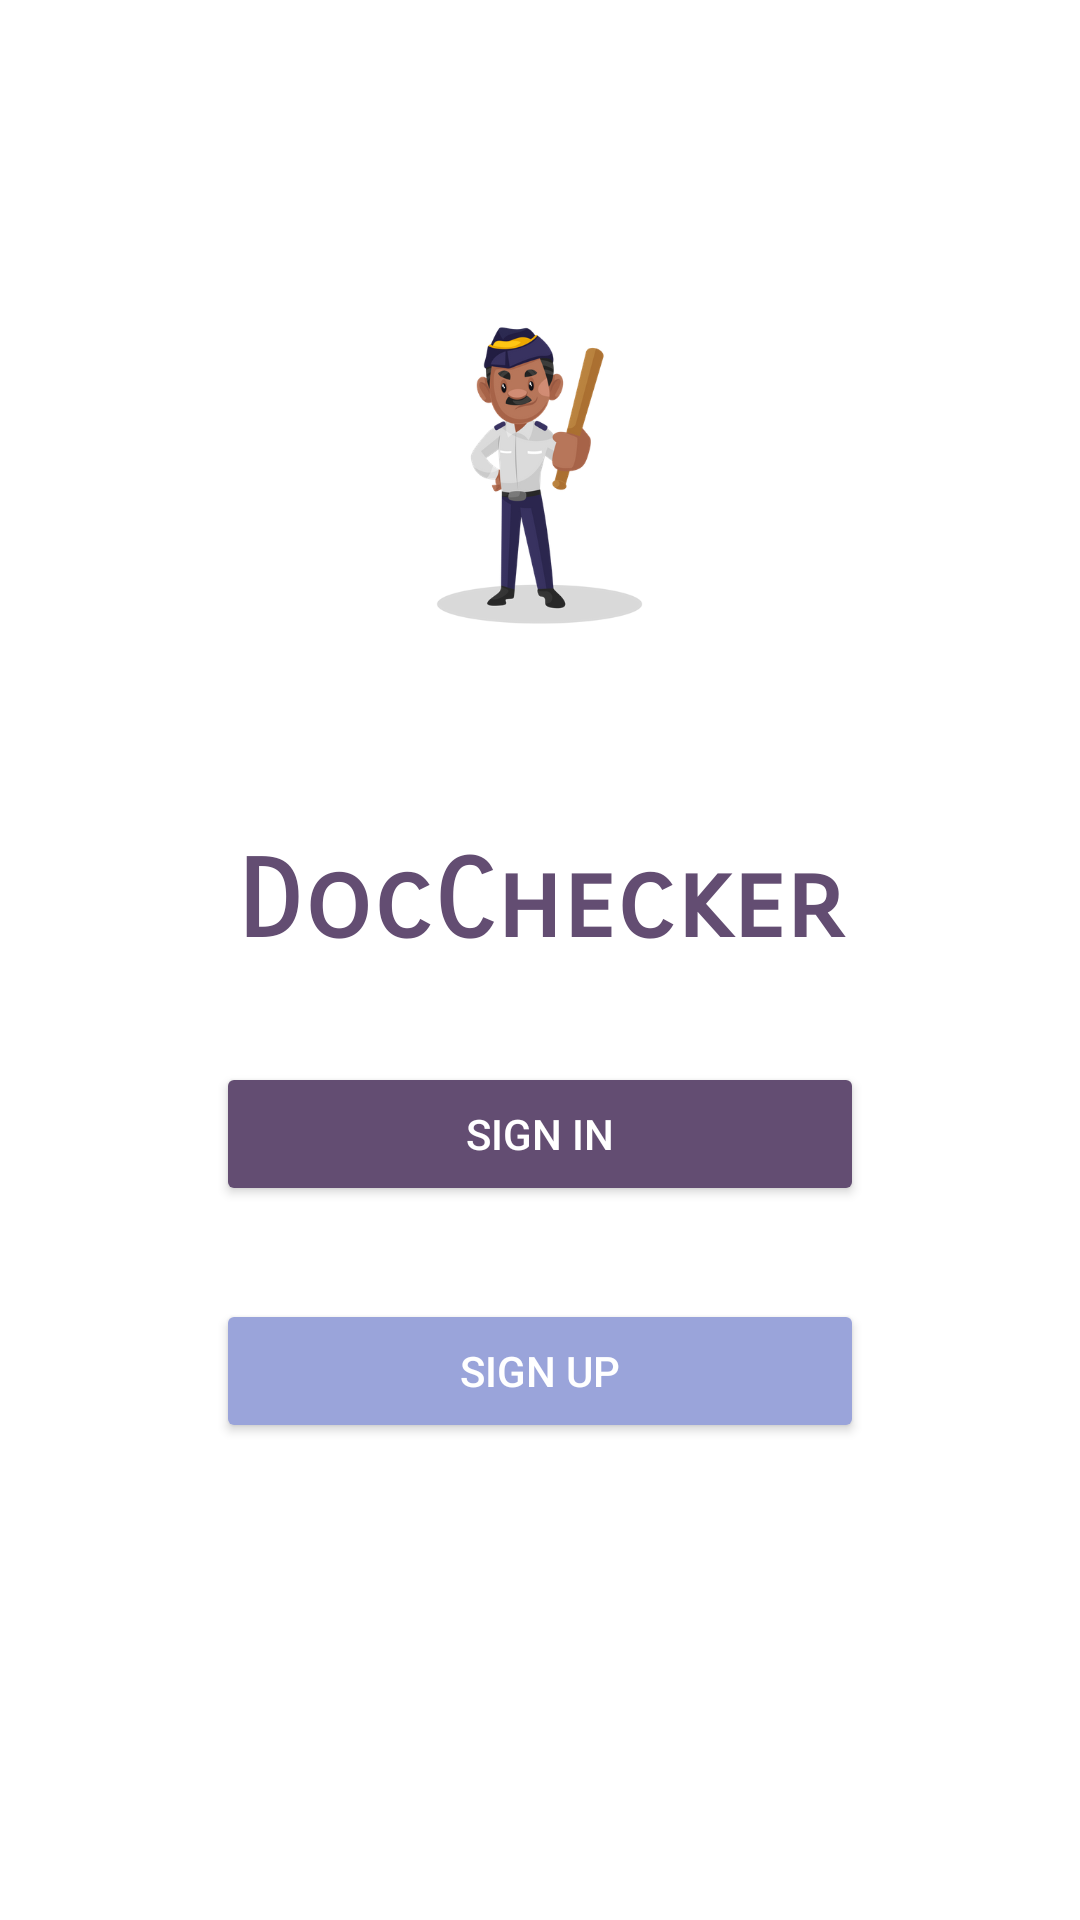

Icons on this 1080x1920 Android screen, each with its box as (x1, y1, x2, y2):
police: (437, 327, 642, 623)
